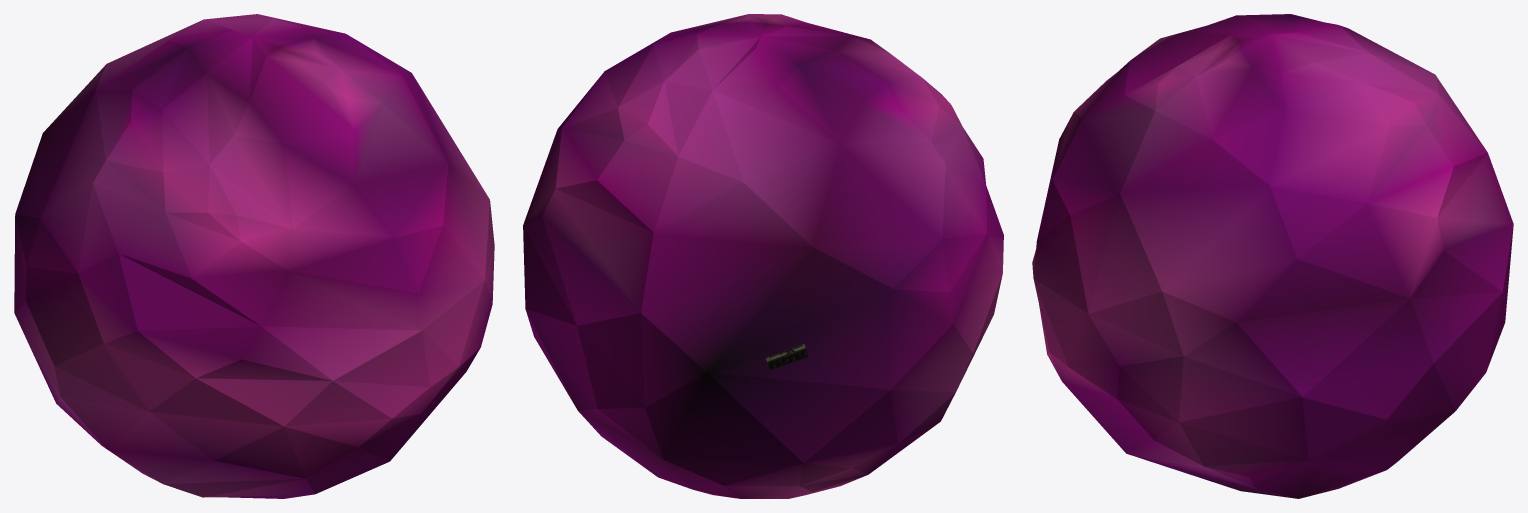
The picture shows the model from 3 angles, left to right: view 1: azimuth 30°, elevation 25°; view 2: azimuth 150°, elevation 25°; view 3: azimuth 270°, elevation 25°; orthographic projection.
Visible parts, largest first — view 1: part3; view 2: part3, part5; view 3: part3.
Boxes of the visible parts, <box> form: part3: <box>14,14,494,498</box>; part3: <box>523,14,1003,498</box>; part5: <box>765,344,808,370</box>; part3: <box>1032,14,1513,498</box>.
Bounding box in the file's own units: 12.82 × 13.03 × 12.81.
Materials: 37 (35 with a texture image).
